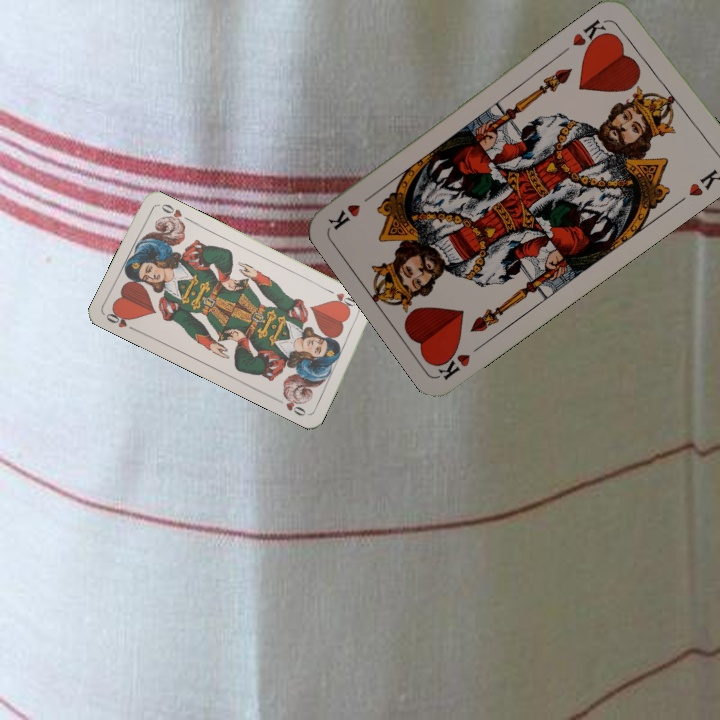HK: (432, 337, 489, 383), (568, 14, 613, 55)
HO: (102, 306, 140, 334), (324, 285, 361, 311)
